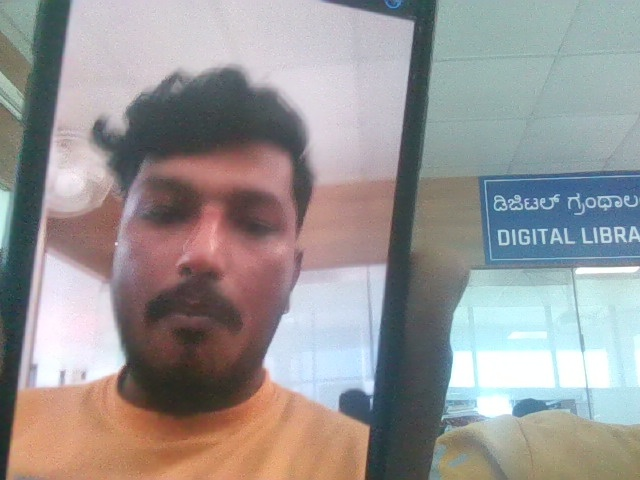fake: (79, 49, 329, 404)
